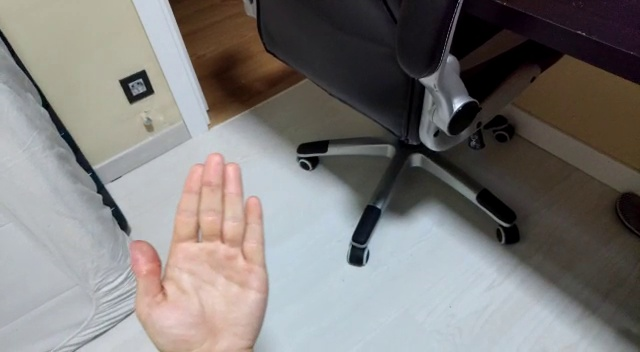Palm: (123, 150, 268, 351)
